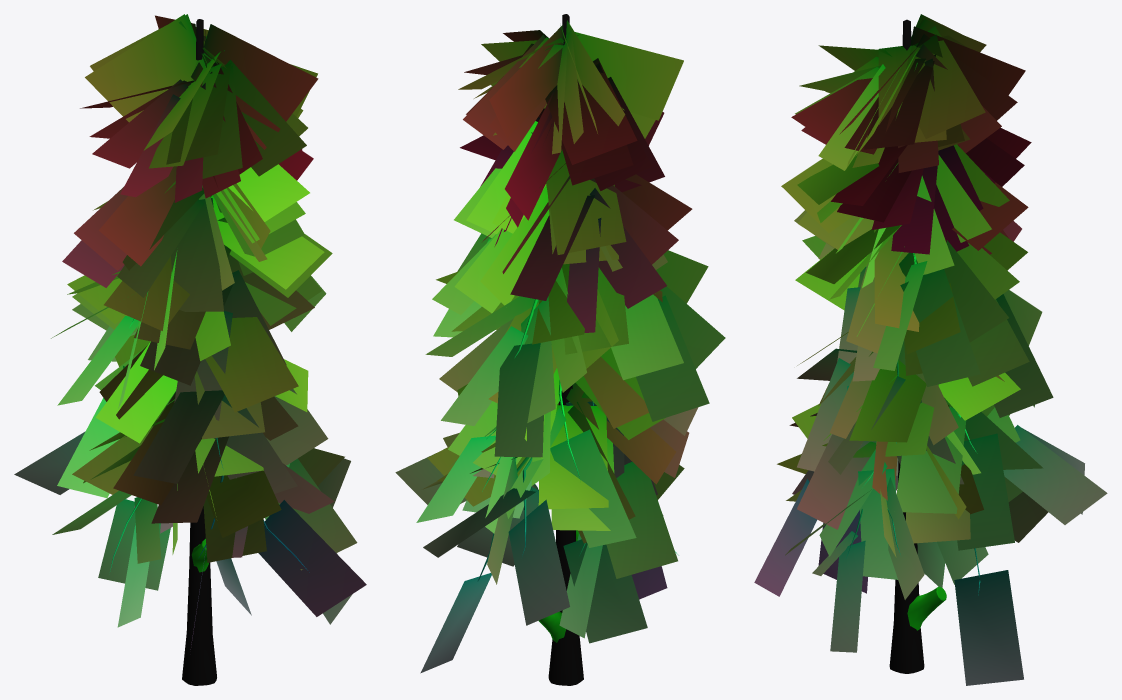
File: M_Pine_3_7.fbx
3 renders of one model, left to right at view 1: azimuth 30°, elevation 25°; view 2: azimuth 150°, elevation 25°; view 3: azimuth 270°, elevation 25°, orthographic. The views are drawn at different scales.
Parts seen in each view (by area): view 1: Tree_7; view 2: Tree_7; view 3: Tree_7.
Part boxes in pixels (x1,y1,x2,y2): Tree_7: (14, 14, 366, 685); Tree_7: (395, 14, 725, 685); Tree_7: (754, 14, 1107, 685).
Bounding box in the file's own units: 1387 × 2891 × 1428.
